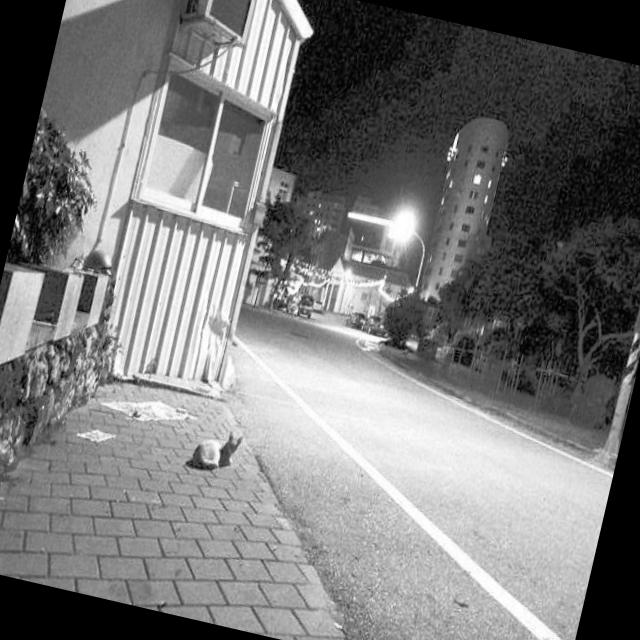Cat: (184, 418, 246, 479)
